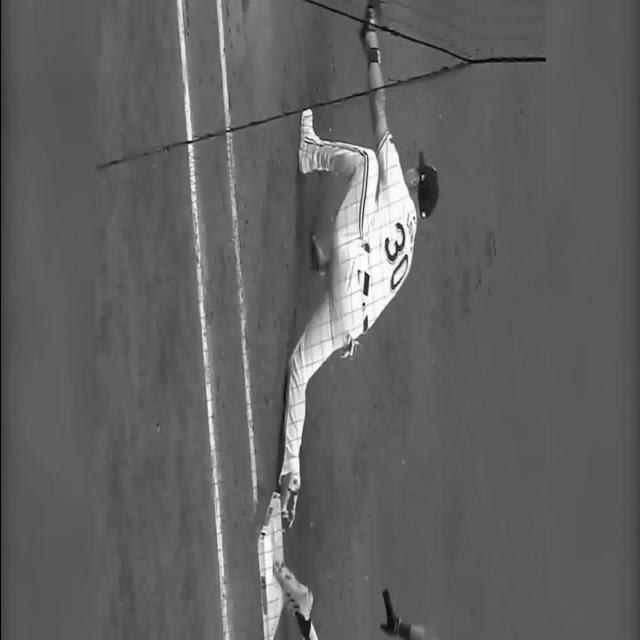base: (256, 491, 282, 640)
baseball_glove: (360, 0, 381, 51)
shoe: (272, 562, 316, 640), (278, 458, 300, 531), (298, 109, 318, 173)
